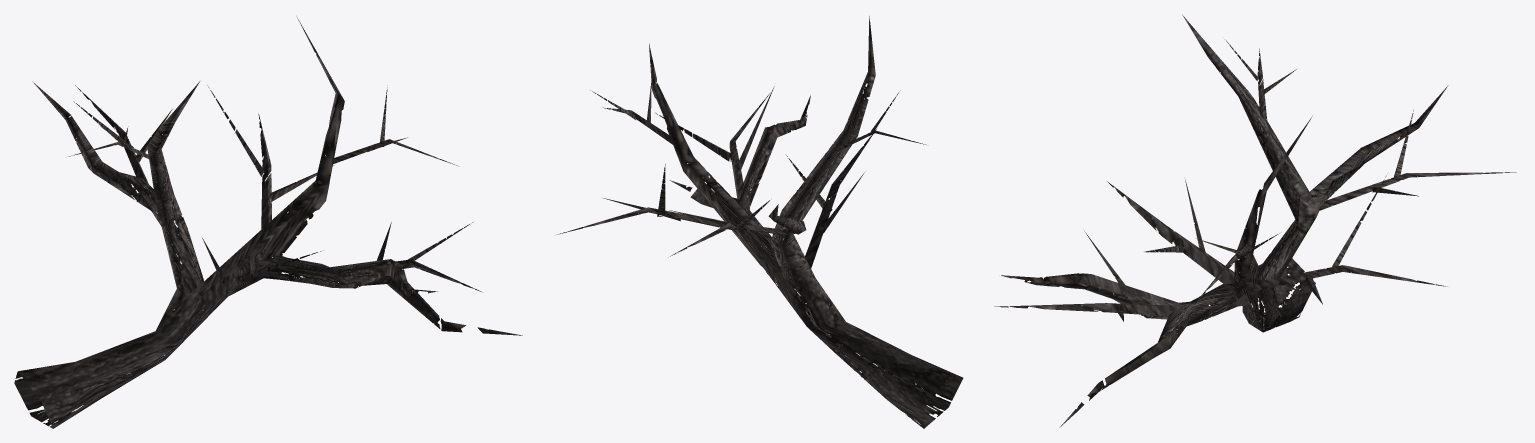
The model's file is Tree04.obj.
3 renders of one model, left to right at view 1: azimuth 30°, elevation 25°; view 2: azimuth 150°, elevation 25°; view 3: azimuth 270°, elevation 25°, orthographic. The views are drawn at different scales.
Parts seen in each view (by area): view 1: Mesh_0; view 2: Mesh_0; view 3: Mesh_0.
Part boxes in pixels (left/top/right/bottom): Mesh_0: left=14, top=16, right=522, bottom=428; Mesh_0: left=556, top=16, right=963, bottom=428; Mesh_0: left=994, top=14, right=1516, bottom=427.
Size of the model in its own units: 4.74 by 3.98 by 5.3.
Materials: 1 (1 with a texture image).
